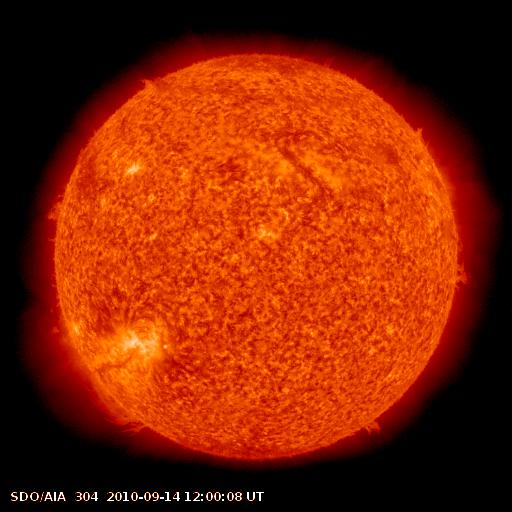prominence: (75, 358, 177, 446), (443, 223, 484, 299), (41, 178, 75, 245), (351, 413, 395, 447), (129, 68, 165, 96), (408, 116, 434, 149)
